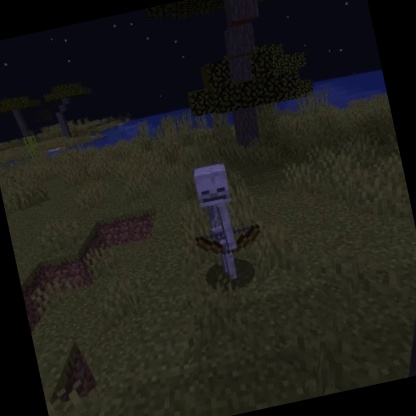skeleton: (176, 153, 273, 290)
